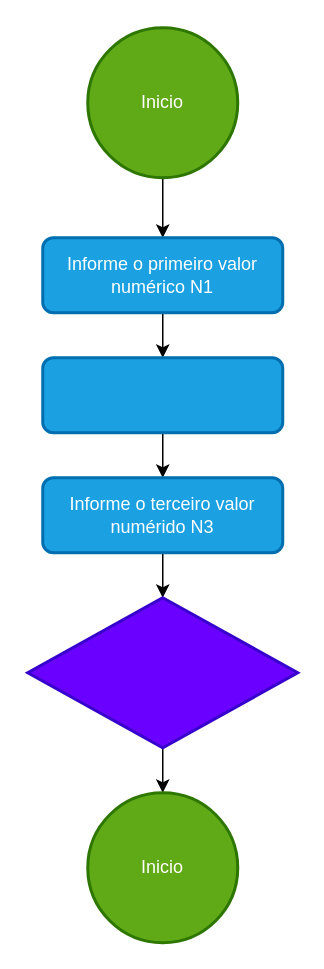
Image size: 324x969. Some labels were removed from this diagram. The shapes that lost their labels are listed below. From the top down, each one's box as (x1, y1, x2, y2) in pixels, then its label:
(40, 356, 284, 434): Informe o segundo valor numérico N2
(26, 596, 298, 748): Processo
